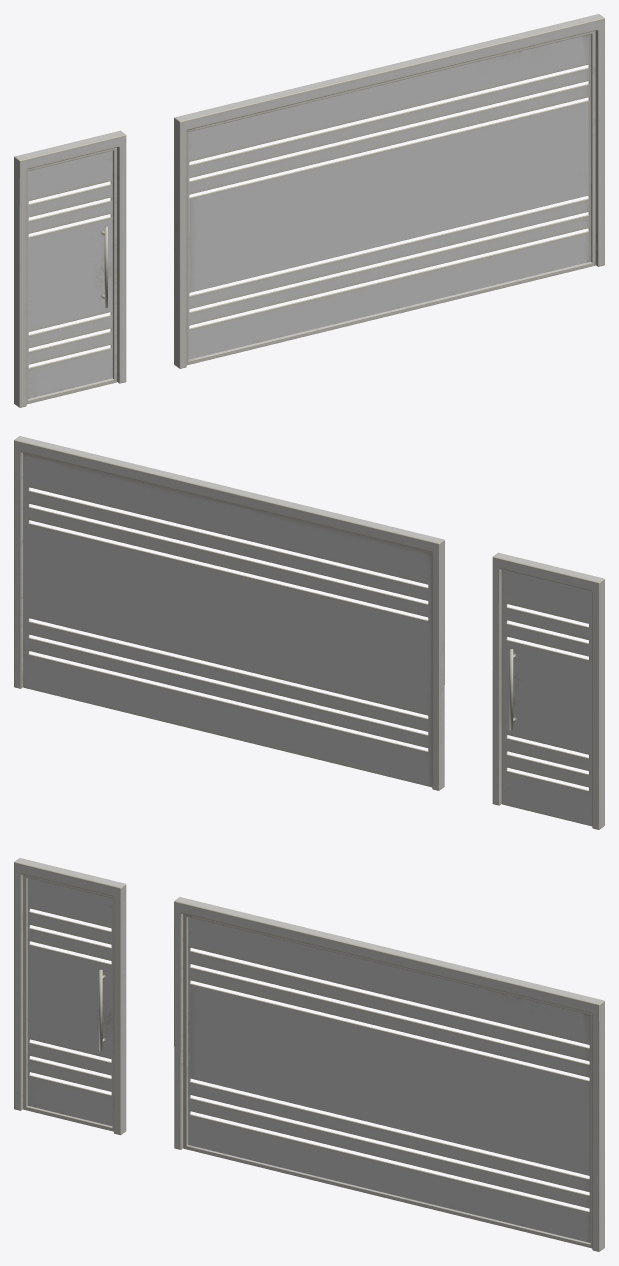
Rendered from port_com_txt.fbx.
3 views of the same model, one above another, from view 1: azimuth 30°, elevation 25°; view 2: azimuth 150°, elevation 25°; view 3: azimuth 330°, elevation 25° (orthographic).
Visible parts, largest first — view 1: folha, folha_pq; view 2: folha, folha_pq; view 3: folha, folha_pq.
Part boxes in pixels (x1,y1,x2,y2): folha: (174,14,604,368); folha_pq: (14,130,126,407); folha: (14,436,444,790); folha_pq: (492,552,604,829); folha: (174,897,604,1251); folha_pq: (14,858,126,1135).
Size of the model in its own units: 570 by 230 by 14.2.
